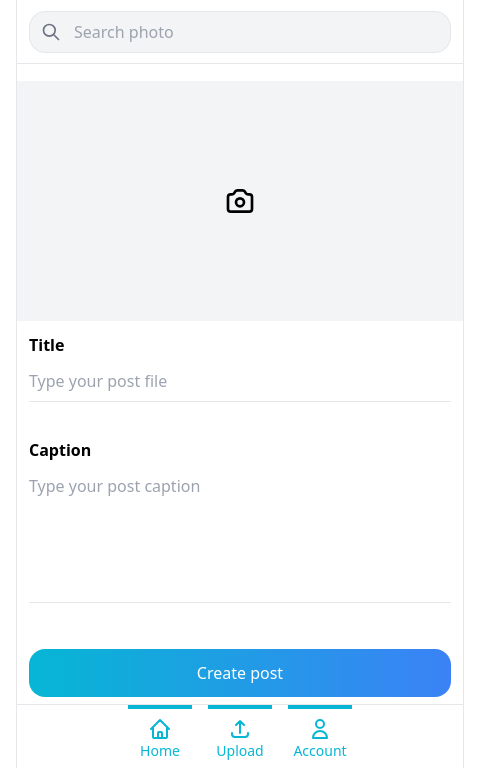
Scenario: Upload Testing › Error message upon title input.
The image size is (481, 768).
In the field with test id "input-title": (240, 382) x1=29 y1=361 x2=451 y2=402, type "w"
Then press Backspace
Press Tab
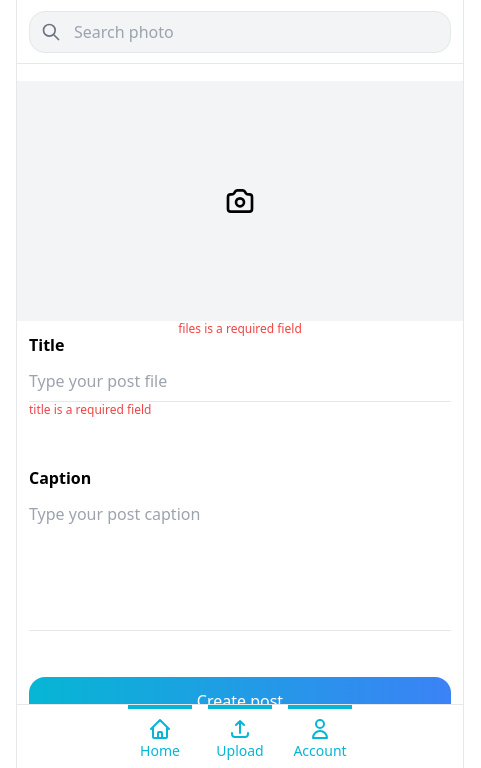
Now the text "title is a required field" is shown, box x1=29 y1=401 x2=151 y2=418
